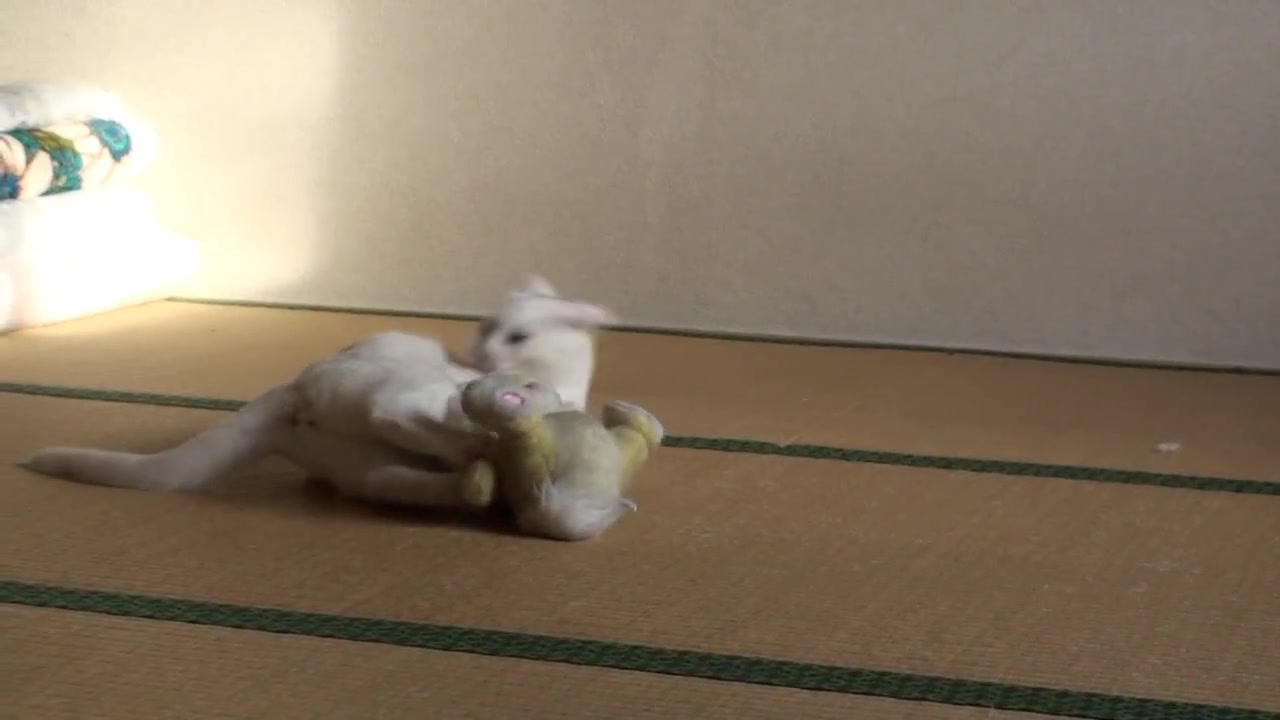cat: (16, 269, 622, 500)
